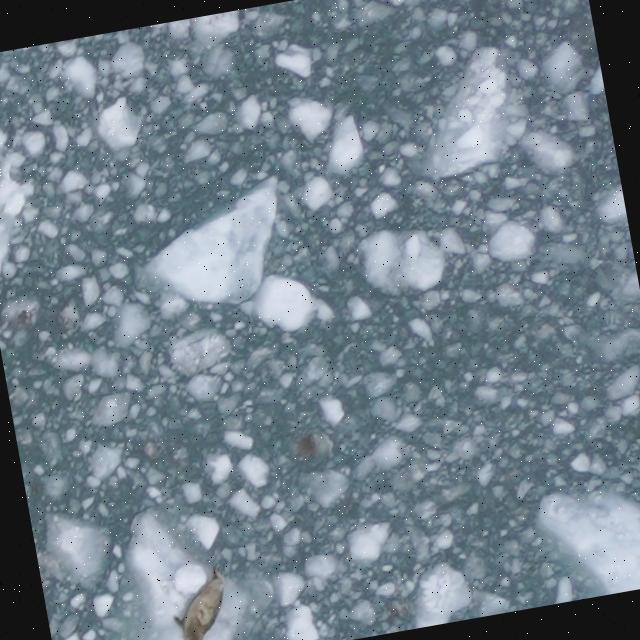seal: (159, 558, 240, 640)
